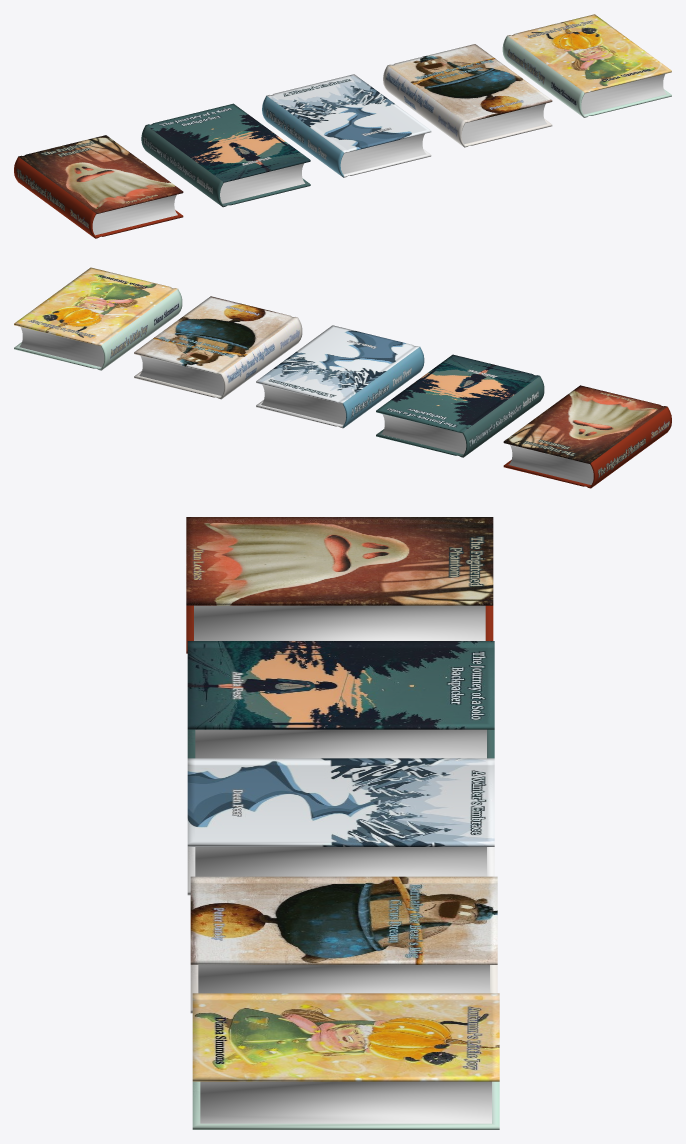
The model's file is books.glb.
The picture shows the model from 3 angles, top to bottom: view 1: azimuth 30°, elevation 25°; view 2: azimuth 150°, elevation 25°; view 3: azimuth 270°, elevation 25°; orthographic projection. The views are drawn at different scales.
Visible parts, largest first — view 1: Fiction book.002, Fiction book.001, Fiction book.003, Fiction book.004, Fiction book; view 2: Fiction book.003, Fiction book.001, Fiction book.004, Fiction book.002, Fiction book; view 3: Fiction book.003, Fiction book.004, Fiction book, Fiction book.002, Fiction book.001.
Part boxes in pixels (bbox=[...]): Fiction book.002: bbox=[383, 44, 552, 147]; Fiction book.001: bbox=[141, 103, 310, 207]; Fiction book.003: bbox=[502, 14, 671, 117]; Fiction book.004: bbox=[14, 135, 183, 238]; Fiction book: bbox=[262, 74, 431, 177]; Fiction book.003: bbox=[14, 267, 182, 370]; Fiction book.001: bbox=[376, 354, 544, 457]; Fiction book.004: bbox=[503, 385, 671, 488]; Fiction book.002: bbox=[134, 296, 302, 399]; Fiction book: bbox=[256, 325, 424, 428]; Fiction book.003: bbox=[192, 993, 499, 1129]; Fiction book.004: bbox=[186, 517, 493, 653]; Fiction book: bbox=[187, 758, 494, 895]; Fiction book.002: bbox=[190, 876, 497, 1013]; Fiction book.001: bbox=[187, 641, 494, 758].
Size of the model in its own units: 1.39 by 0.0589 by 0.3255.
Materials: 10 (5 with a texture image).
